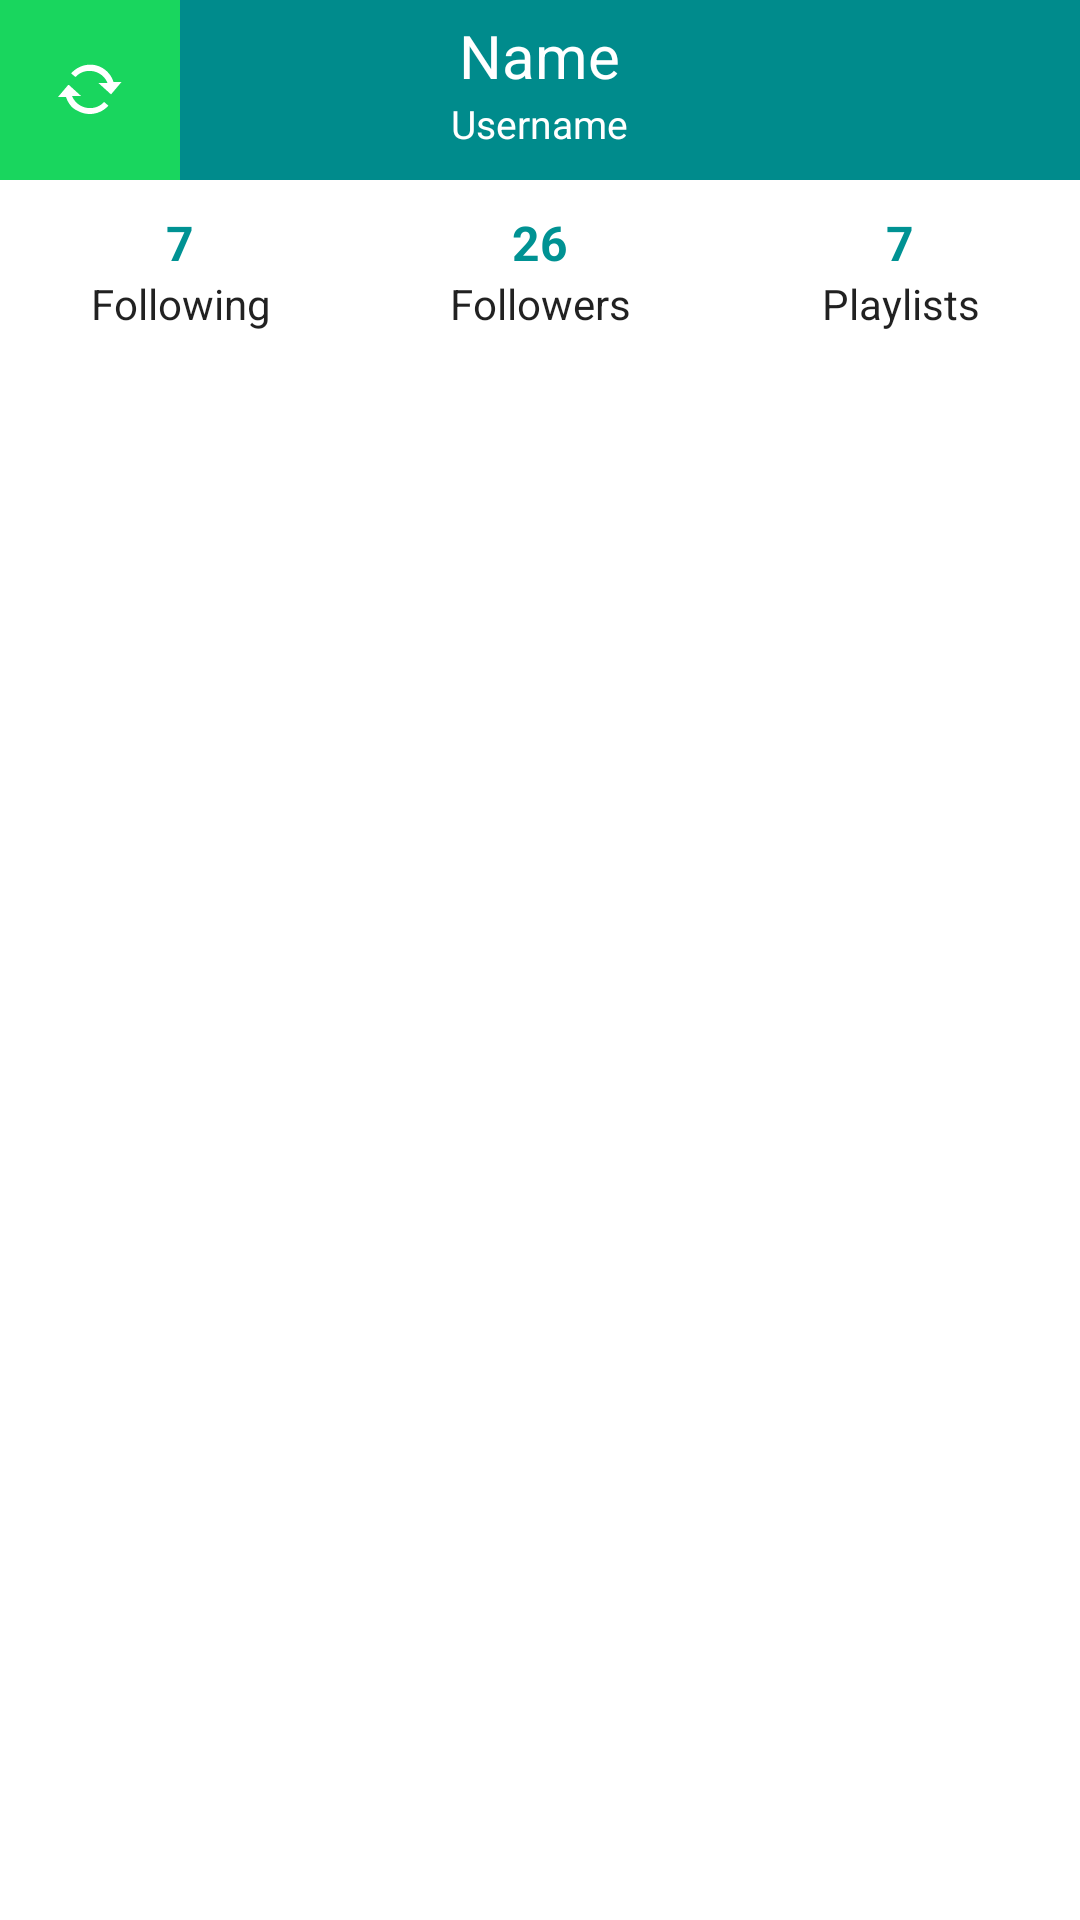

Icons on this 1080px x 1920px Android screen, each with the point to tap as (x=x, y=y):
sync: (x=90, y=90)
